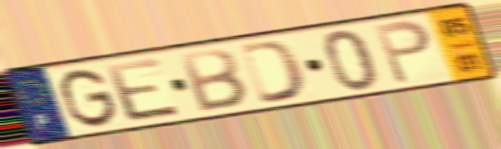0: (321, 27, 381, 94)
B: (177, 46, 251, 114)
D: (236, 37, 309, 107)
E: (101, 55, 186, 125)
G: (58, 66, 122, 130)
P: (371, 17, 435, 87)
